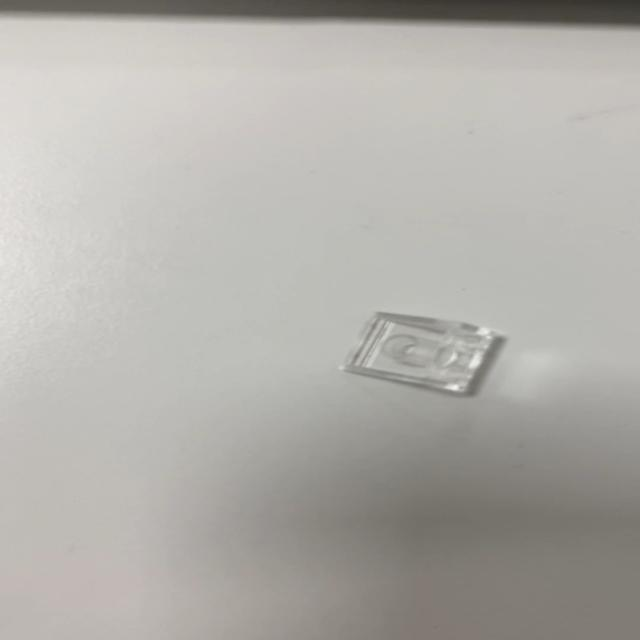P2x2x1: (337, 310, 506, 396)
